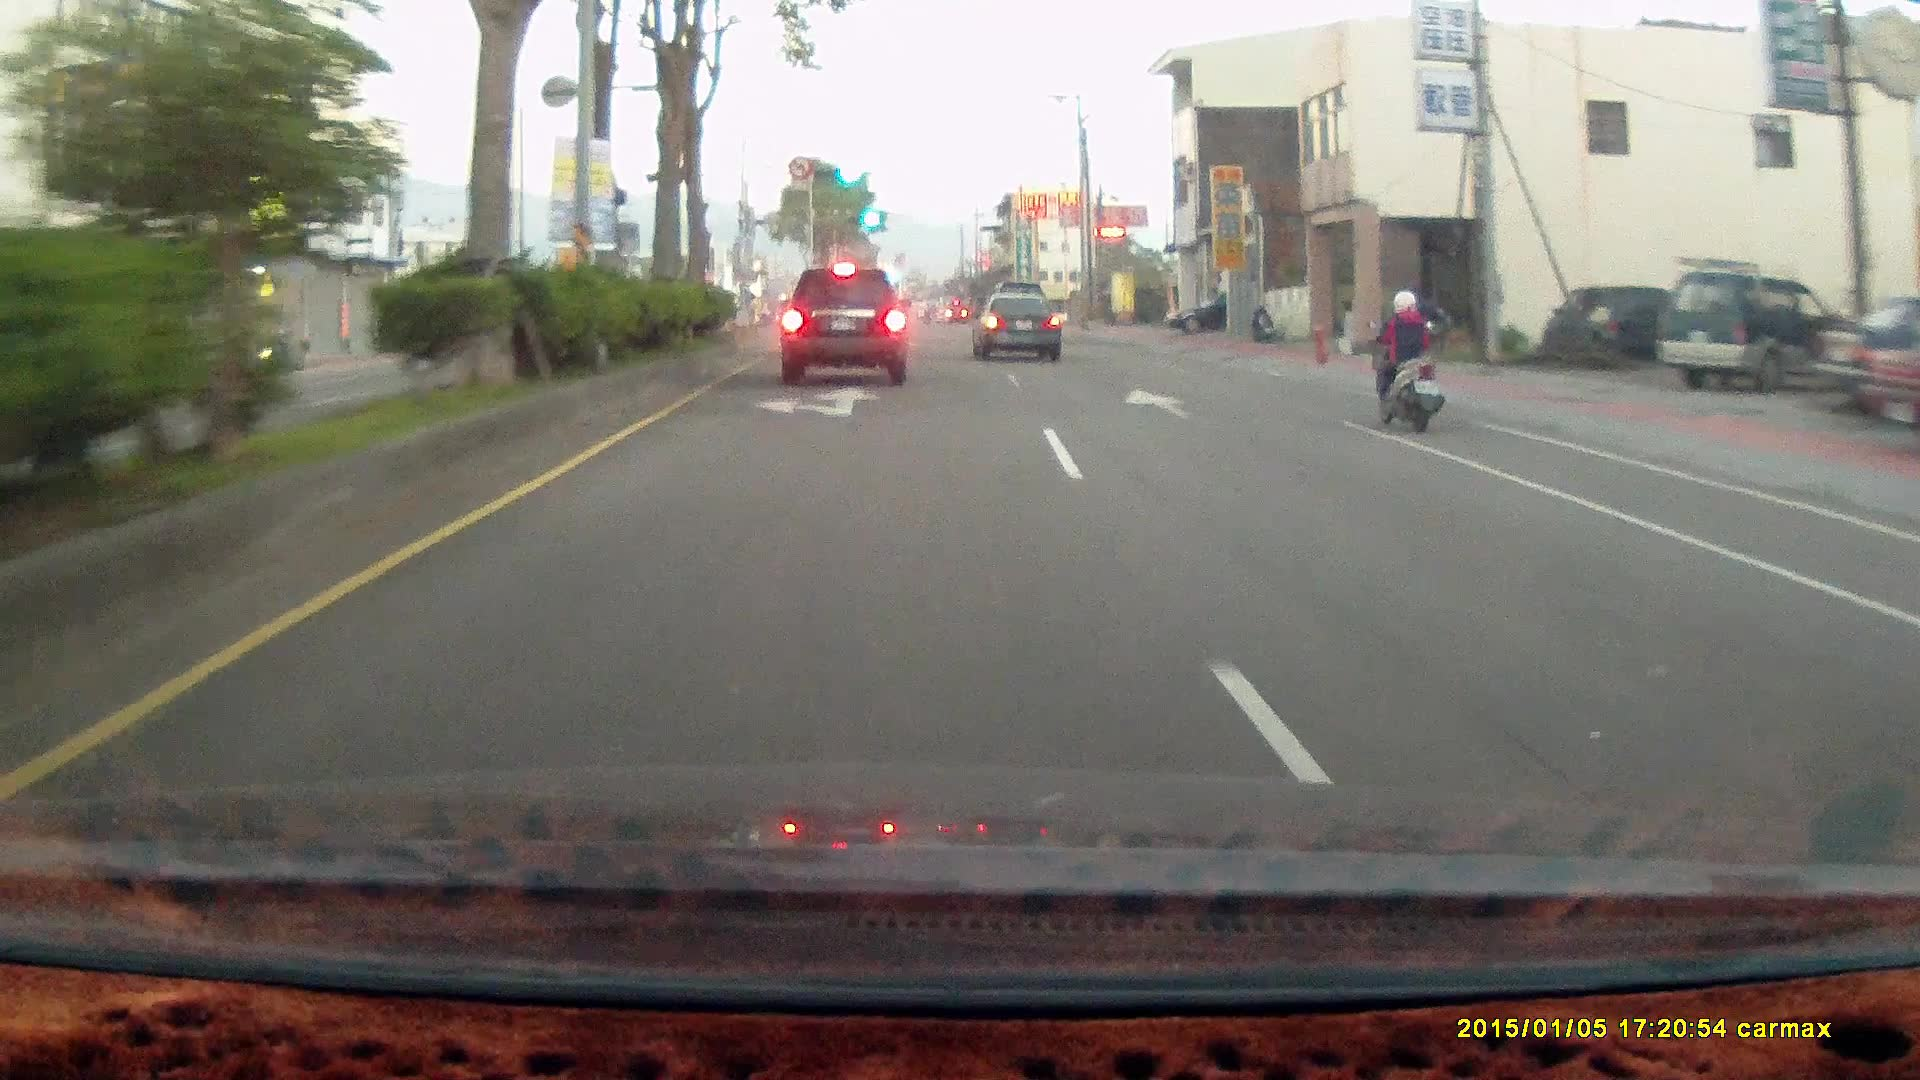rider: (1354, 275, 1459, 444), (1366, 285, 1444, 429)
vehicle: (1654, 269, 1857, 392), (1661, 272, 1844, 395), (781, 254, 914, 377), (778, 264, 908, 383), (1547, 281, 1668, 370), (1543, 284, 1671, 366), (1858, 332, 1920, 443), (971, 291, 1066, 362), (974, 290, 1060, 355), (1165, 290, 1268, 333), (1164, 289, 1230, 337)
